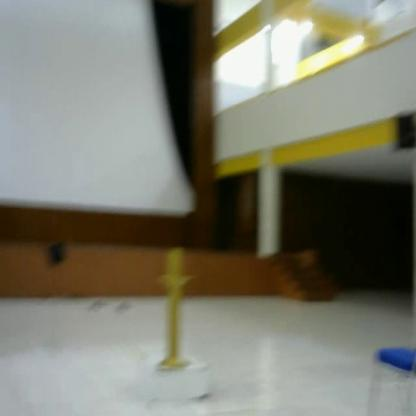pole: (154, 247, 198, 377)
